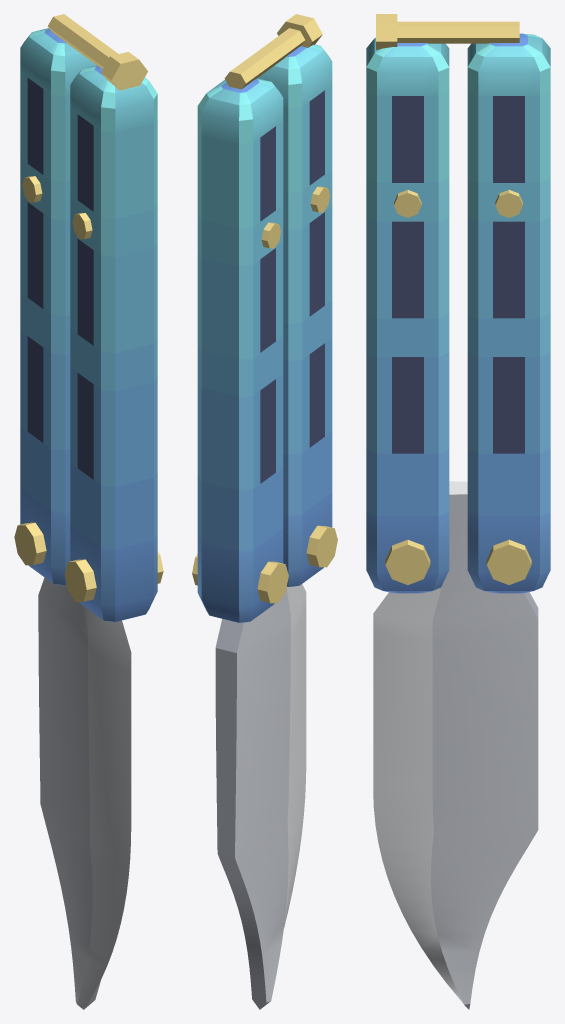
File: Melee_Butterfly.glb
3 views of the same model, side by side, from view 1: azimuth 30°, elevation 25°; view 2: azimuth 150°, elevation 25°; view 3: azimuth 270°, elevation 25° (orthographic). The views are drawn at different scales.
Parts seen in each view (by area): view 1: HandleB, Blade, Handle; view 2: Handle, HandleB, Blade; view 3: Blade, HandleB, Handle.
Boxes of the visible parts, box(x1,y1,x2,y2) form: HandleB: box(47, 14, 163, 622); Blade: box(38, 577, 131, 1009); Handle: box(14, 28, 96, 585); Handle: box(192, 78, 288, 622); HandleB: box(224, 14, 337, 586); Blade: box(215, 584, 306, 1009); Blade: box(373, 481, 538, 1009); HandleB: box(366, 14, 519, 593); Handle: box(467, 33, 550, 593).
Bounding box in the file's own units: 0.168 × 2.05 × 0.346.
